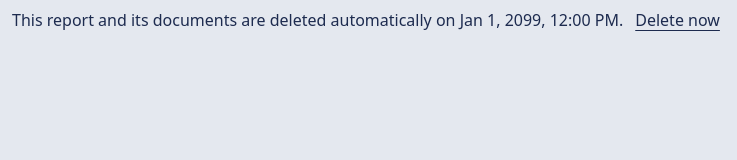
Test: deleting a report › asks first, and keeps the report when the user changes their mind
Click the button "Delete now" at (678, 20), box [635,8,720,32]
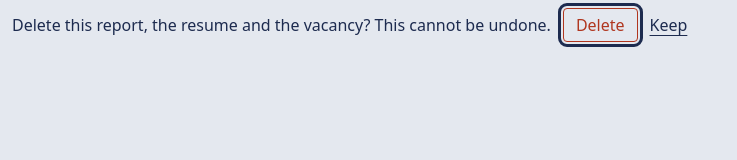
Expected: the text "This cannot be undone" is shown, [12,14,551,36]
Click the button "Keep" at (668, 25), box [650,13,687,37]
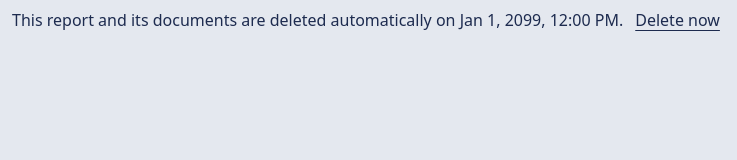
Expected: the button "Delete now" is shown, [635,8,720,32]
